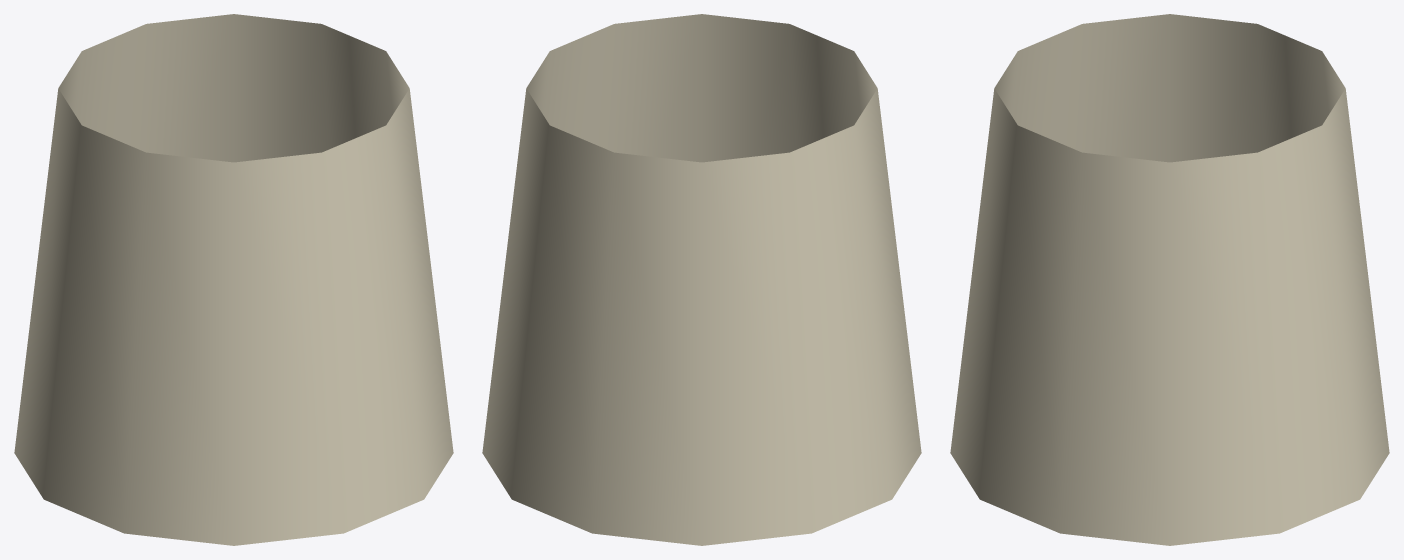
The model's file is lamp_shade.glb.
The picture shows the model from 3 angles, left to right: view 1: azimuth 30°, elevation 25°; view 2: azimuth 150°, elevation 25°; view 3: azimuth 270°, elevation 25°; orthographic projection.
Visible parts, largest first — view 1: LampShade; view 2: LampShade; view 3: LampShade.
Part boxes in pixels (x1=…): LampShade: x1=14, y1=14, x2=453, y2=545; LampShade: x1=482, y1=14, x2=921, y2=545; LampShade: x1=950, y1=14, x2=1389, y2=545.
Bounding box in the file's own units: 0.12 × 0.11 × 0.12.
